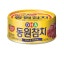paper: (6, 10, 58, 45)
